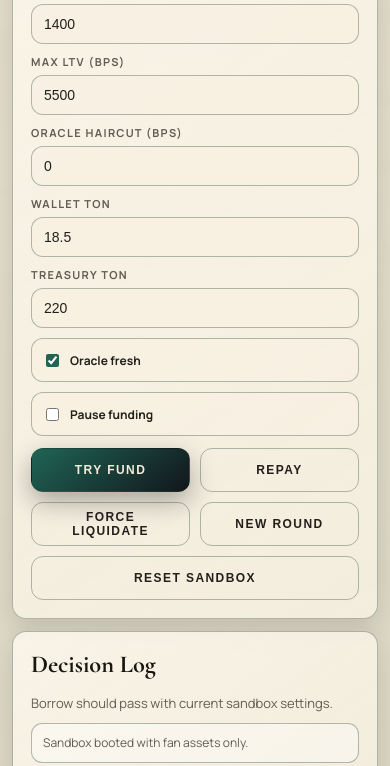
Test: demo sandbox: blocks funding when paused
The image size is (390, 766).
(page scrolled)
Click the checkbox labelled "Pause funding" at (52, 414), box [46,408,59,421]
(page scrolled)
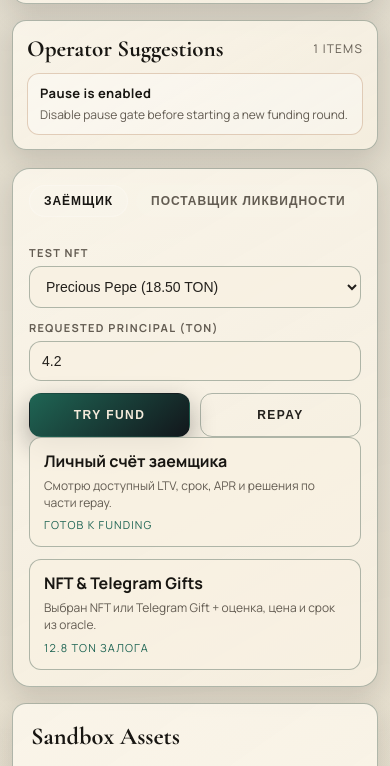
Click the button "TRY FUND" at (110, 415), box [29,393,190,437]
(page scrolled)
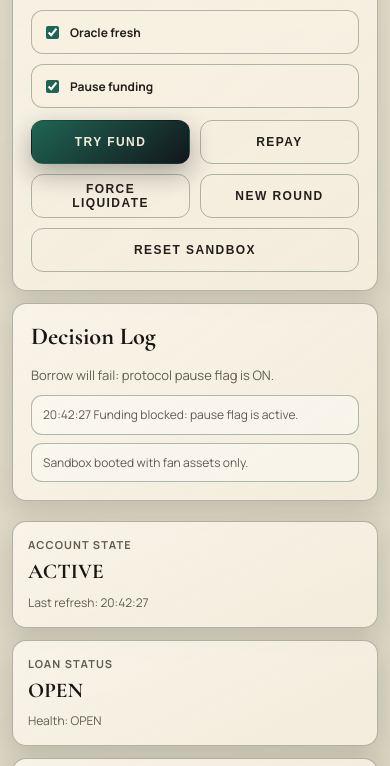
Check: the list item "20:42:27 Funding blocked: pause flag is active." is shown, box [31,395,359,435]
